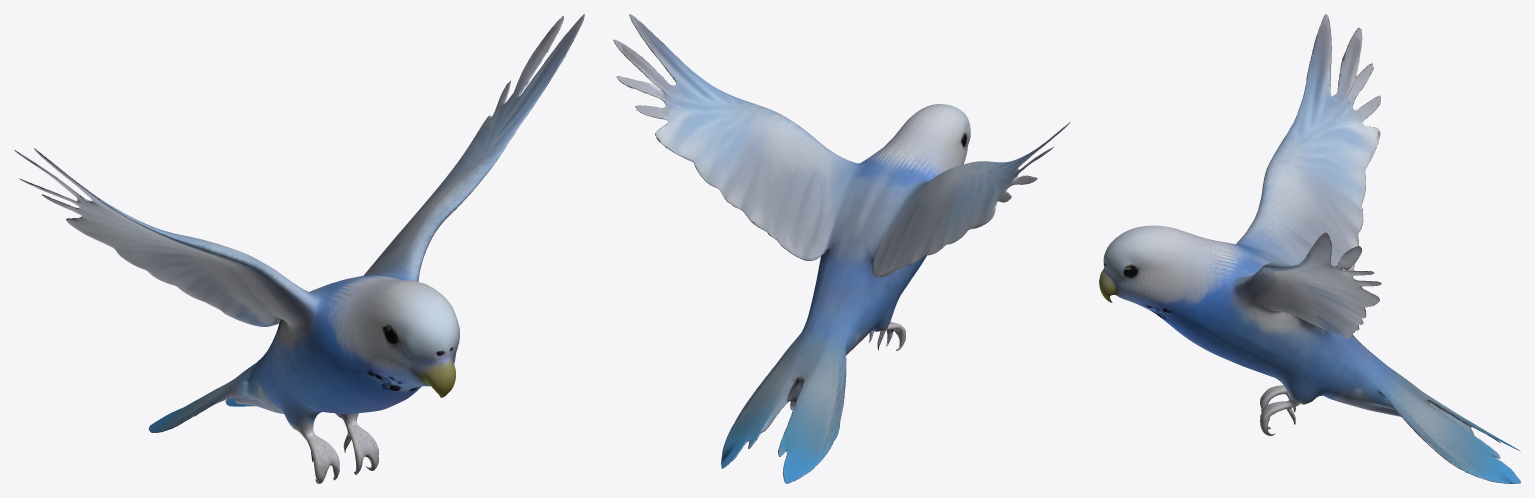
Rendered from budgerigar_flying.glb.
3 views of the same model, side by side, from view 1: azimuth 30°, elevation 25°; view 2: azimuth 150°, elevation 25°; view 3: azimuth 270°, elevation 25° (orthographic). The views are drawn at different scales.
Visible parts, largest first — view 1: model; view 2: model; view 3: model.
Boxes of the visible parts, x1,y1,x2,y2 form: model: (14,14,584,483); model: (613,14,1070,483); model: (1099,14,1520,483).
Size of the model in its own units: 1.9 by 1.39 by 1.55.
Materials: 1 (1 with a texture image).
